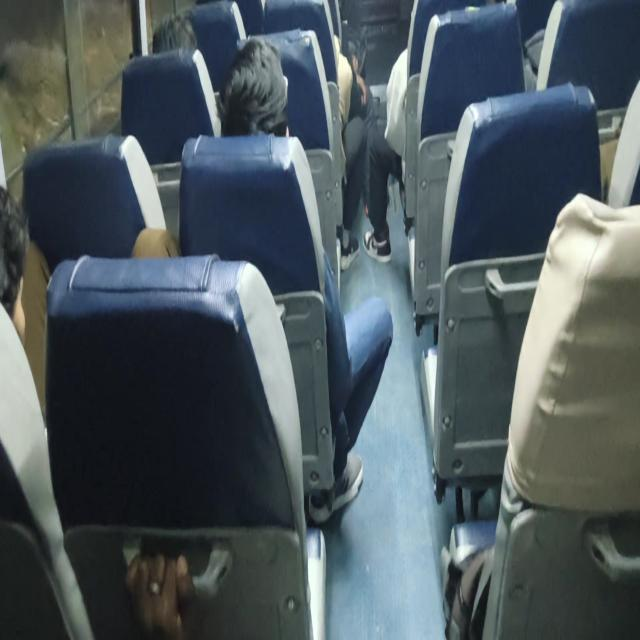person: (132, 36, 394, 522), (362, 0, 486, 263), (264, 0, 368, 270), (362, 45, 409, 264), (215, 37, 290, 138), (124, 547, 198, 638), (0, 184, 30, 347), (152, 11, 198, 54)
